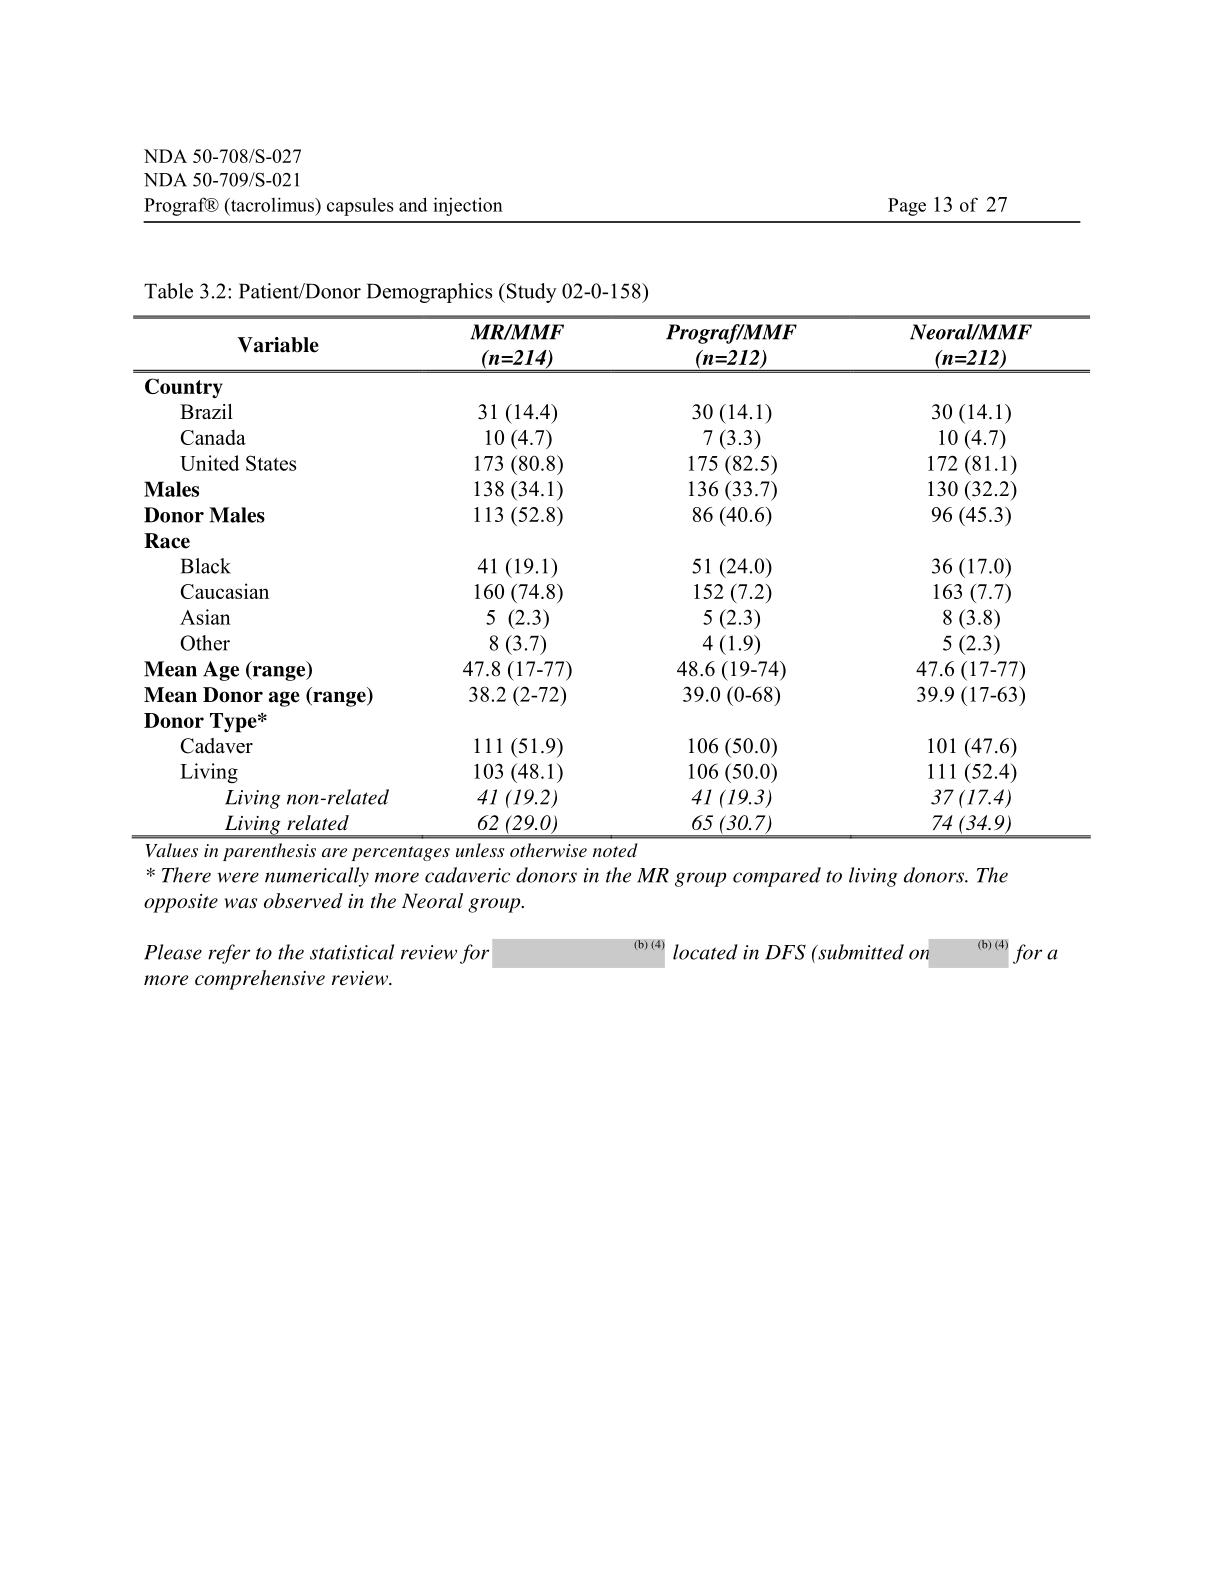partial_lined: (132, 312, 1092, 841)
